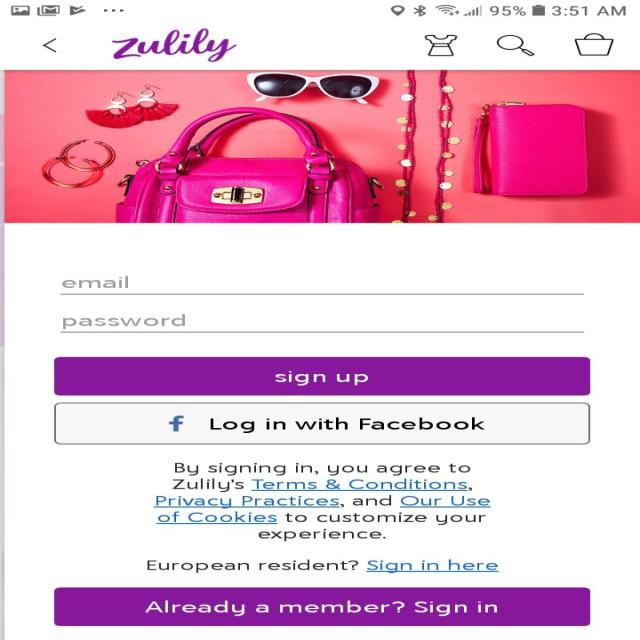EditText: (60, 275, 584, 295), (60, 314, 584, 332)
Icon: (574, 33, 614, 56), (496, 35, 534, 56), (168, 414, 183, 431), (42, 38, 57, 52)
Image: (5, 70, 640, 223), (111, 28, 236, 63), (424, 35, 457, 56)
Text: (153, 462, 491, 542), (146, 559, 498, 573), (62, 313, 185, 330), (62, 276, 129, 288)
TextButton: (54, 402, 590, 444), (54, 356, 590, 396), (55, 587, 590, 626)
